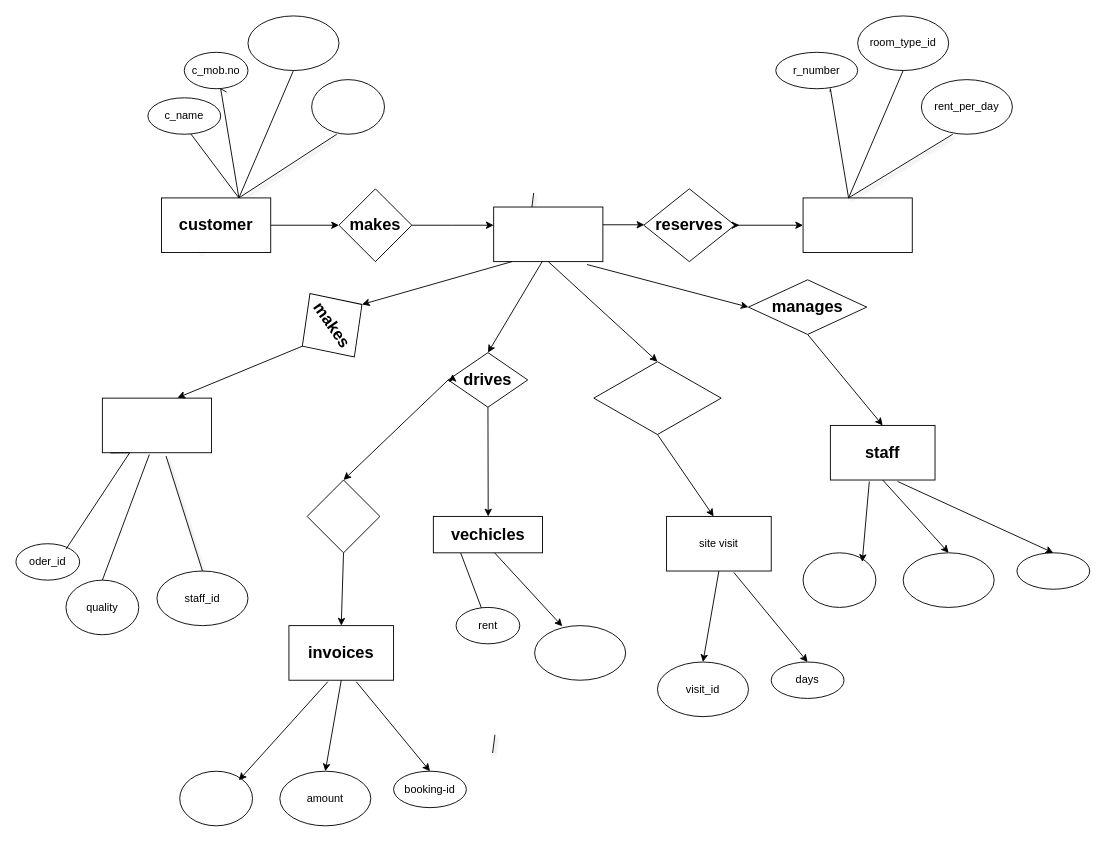
Image size: 1106x842. Some labels were removed from this diagram. Each missing label, with the centre of its shape:
address: pixel 293 43
Booking: pixel 548 234
creates: pixel 343 516
Food: pixel 156 425
id_proof: pixel 347 106
invoice_id: pixel 216 798
Room: pixel 857 225
s_id: pixel 839 579
s_mob.no: pixel 1053 570
s_name: pixel 948 579
uses: pixel 657 398
vechicle_id: pixel 580 652
